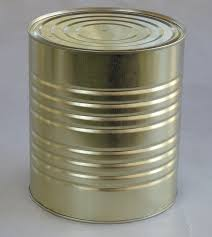can: (19, 2, 190, 229)
